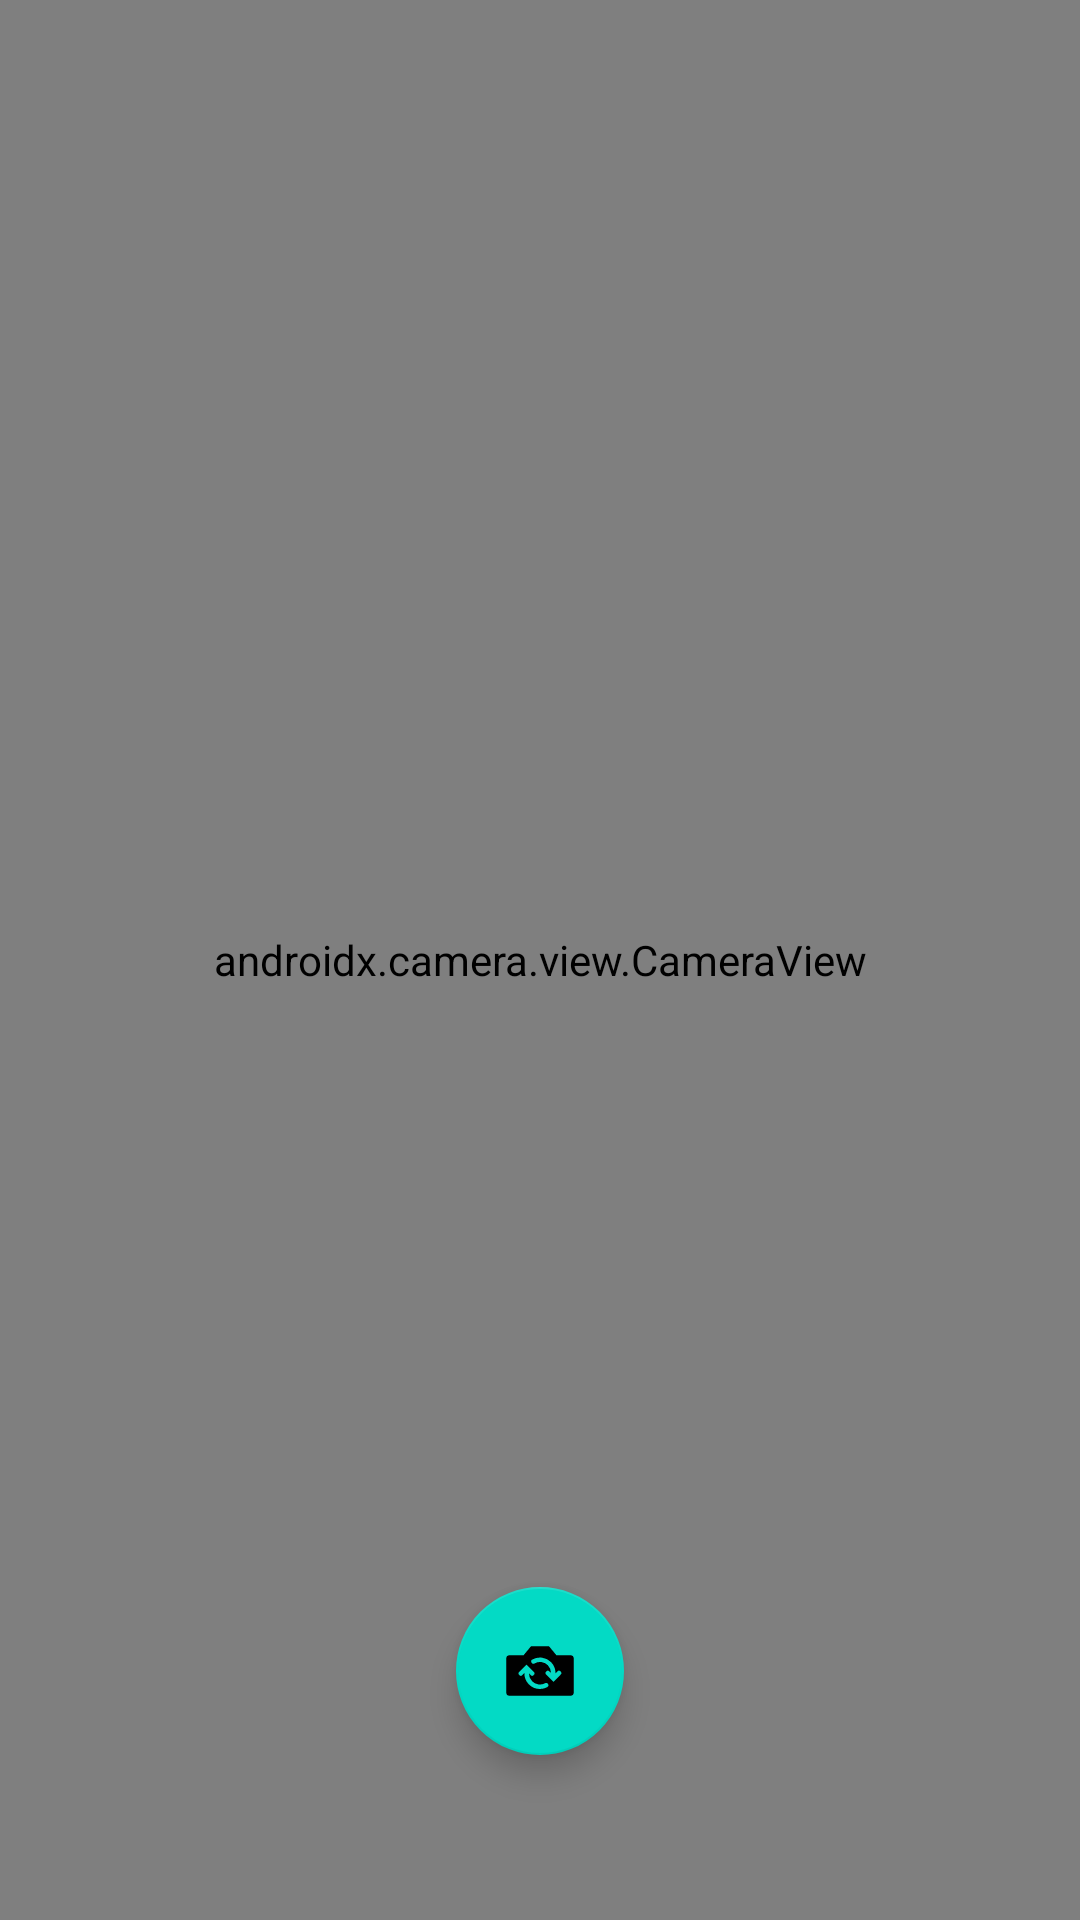

Icons on this 1080×1920 Android screen, each with its box as (x1, y1, x2, y2):
switch camera: (456, 1587, 624, 1755)
